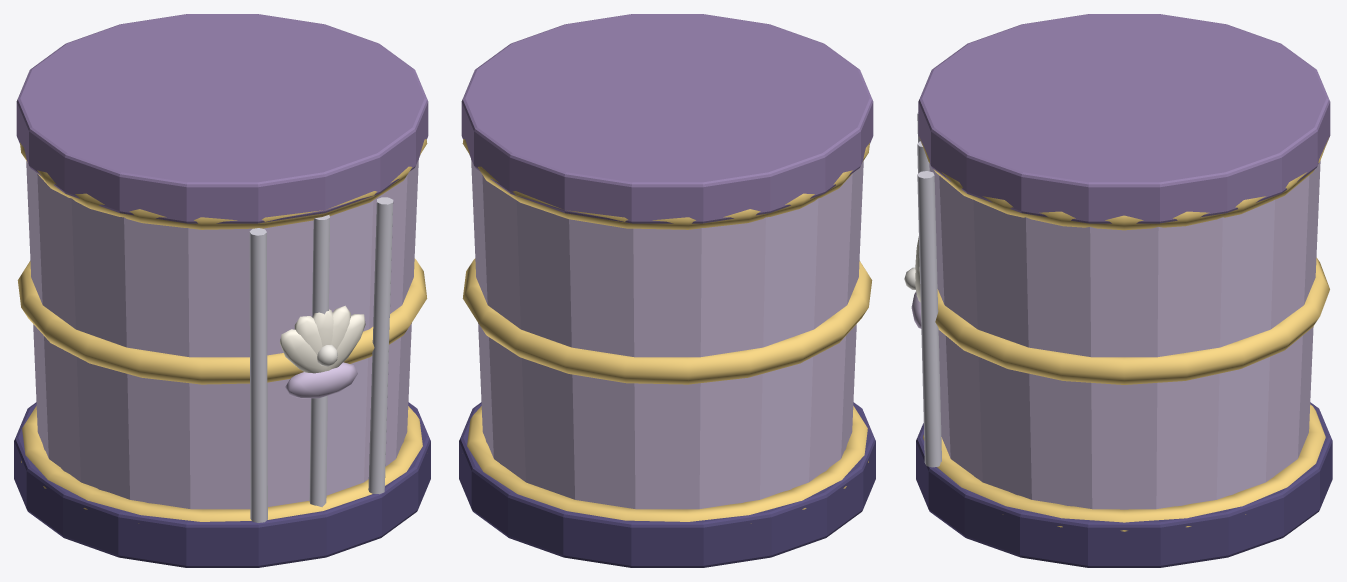
Rendered from pearl_storage_barrel.glb.
3 views of the same model, side by side, from view 1: azimuth 30°, elevation 25°; view 2: azimuth 150°, elevation 25°; view 3: azimuth 270°, elevation 25° (orthographic).
Visible parts, largest first — view 1: pearl_storage_barrel.001; view 2: pearl_storage_barrel.001; view 3: pearl_storage_barrel.001.
Part boxes in pixels (x1,y1,x2,y2): pearl_storage_barrel.001: (14,14,430,567); pearl_storage_barrel.001: (459,14,875,567); pearl_storage_barrel.001: (904,14,1332,567).
Size of the model in its own units: 3.28 by 3.38 by 3.41.
